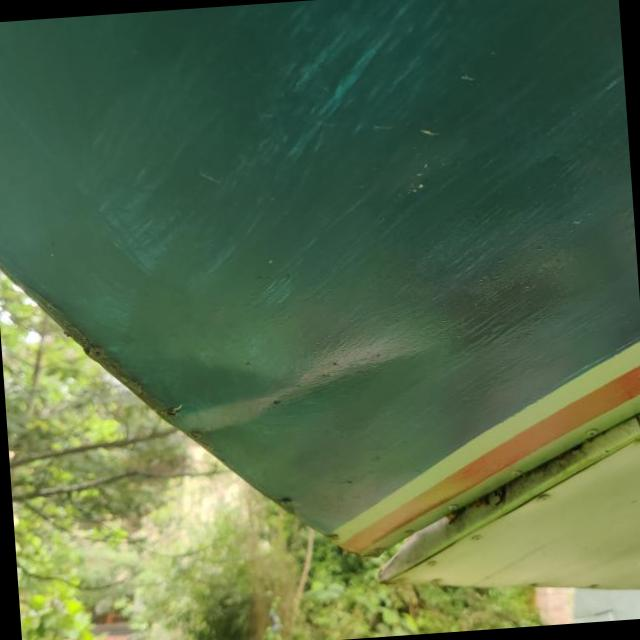Dent: (137, 276, 464, 502)
